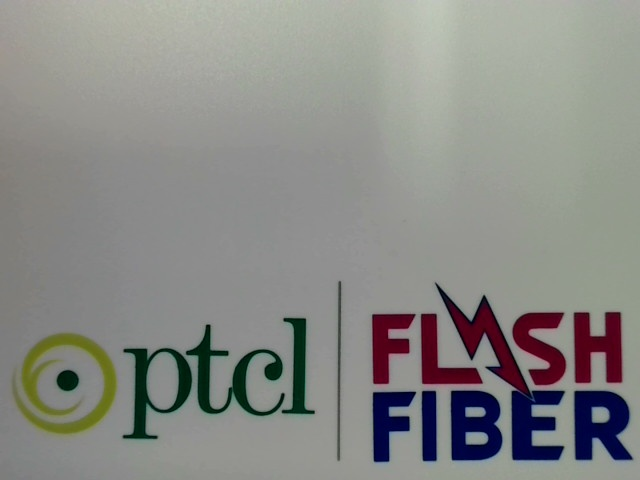BF_PTCL: (2, 304, 325, 445)
